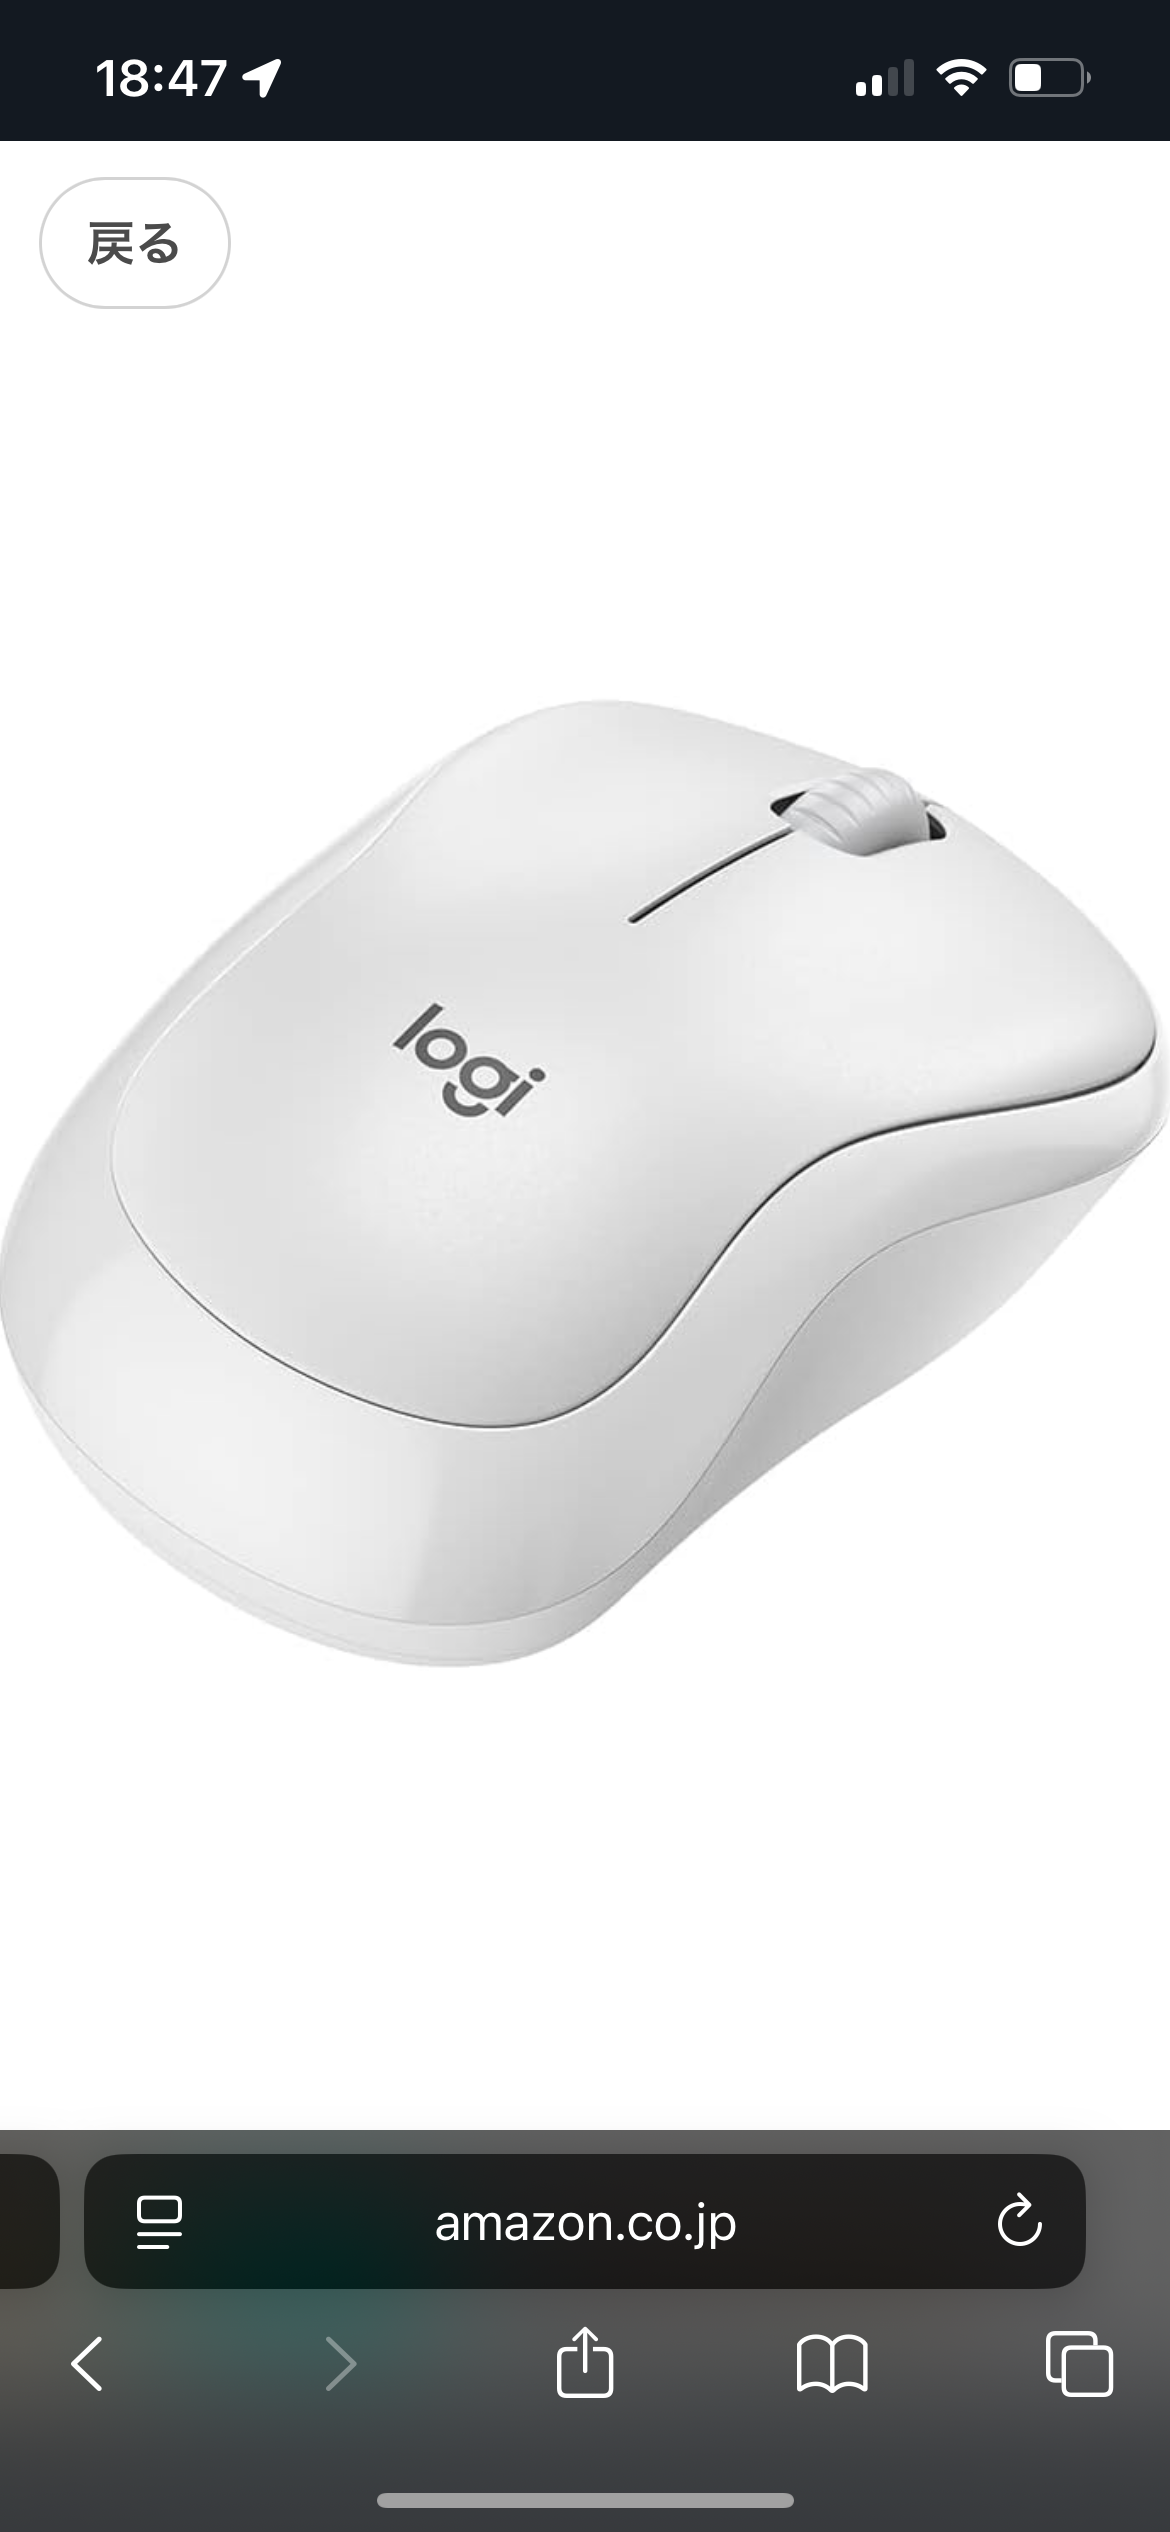mouse: (489, 667, 673, 1671)
